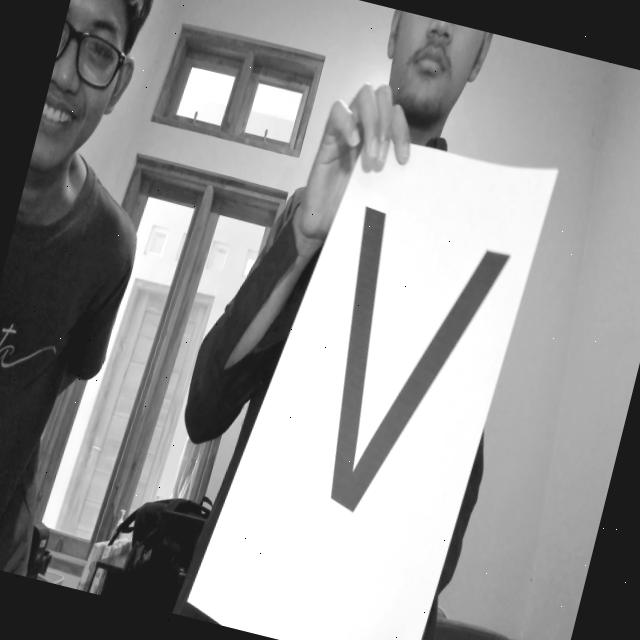v: (270, 175, 526, 570)
